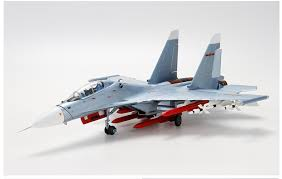maybay_muctieu: (27, 45, 276, 132)
